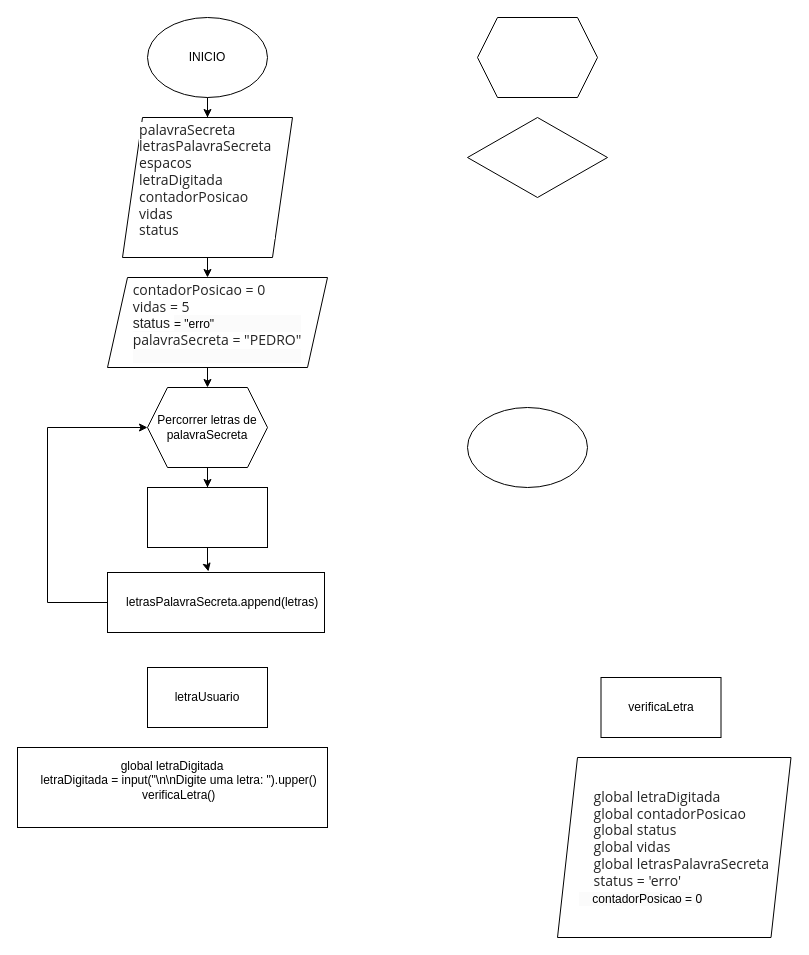
The diagram is 809 pixels wide and 955 high, and some of its shapes have lost their labels. Each missing label, with the box of its shape:
Criar espaços: (146, 486, 268, 548)
FIM: (466, 406, 588, 488)
Letra digitada existe?: (466, 116, 608, 198)
Percorrer letras: (476, 16, 598, 98)
